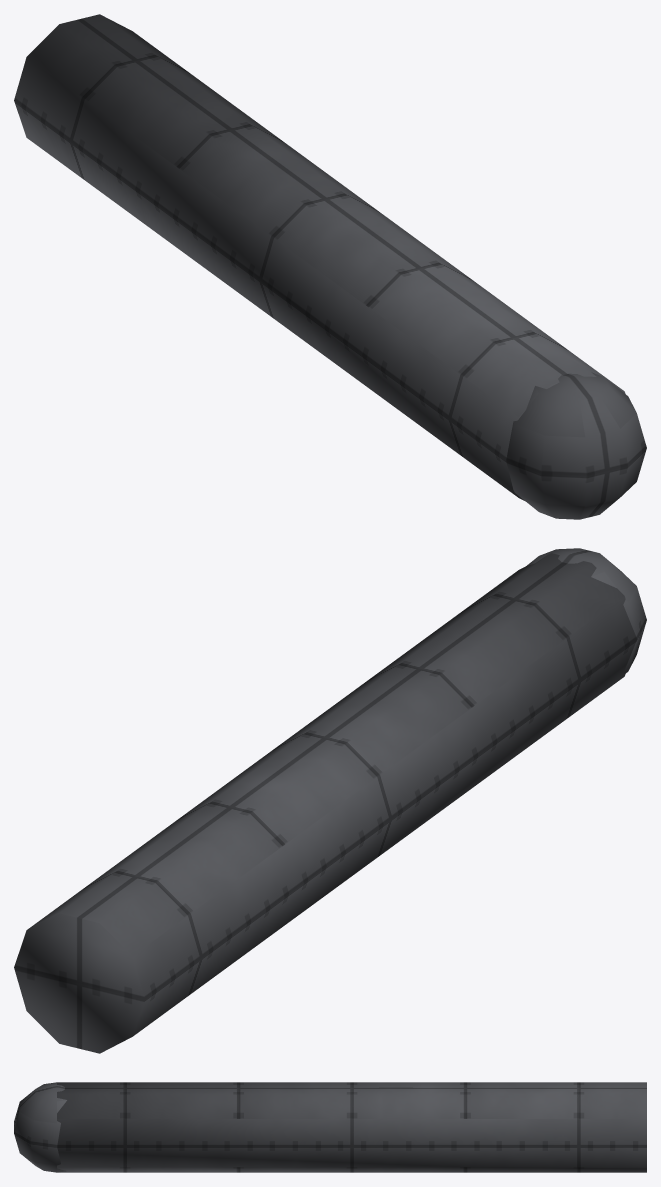
File: torpedo.gltf
The picture shows the model from 3 angles, top to bottom: view 1: azimuth 30°, elevation 25°; view 2: azimuth 150°, elevation 25°; view 3: azimuth 270°, elevation 25°; orthographic projection. The views are drawn at different scales.
Parts seen in each view (by area): view 1: torpedo_body; view 2: torpedo_body; view 3: torpedo_body.
Boxes of the visible parts, <box> form: torpedo_body: <box>14,14,646,519</box>; torpedo_body: <box>14,548,646,1053</box>; torpedo_body: <box>14,1082,646,1172</box>.
Bounding box in the file's own units: 0.2 × 0.2 × 1.4.
1 material, 1 textured.
